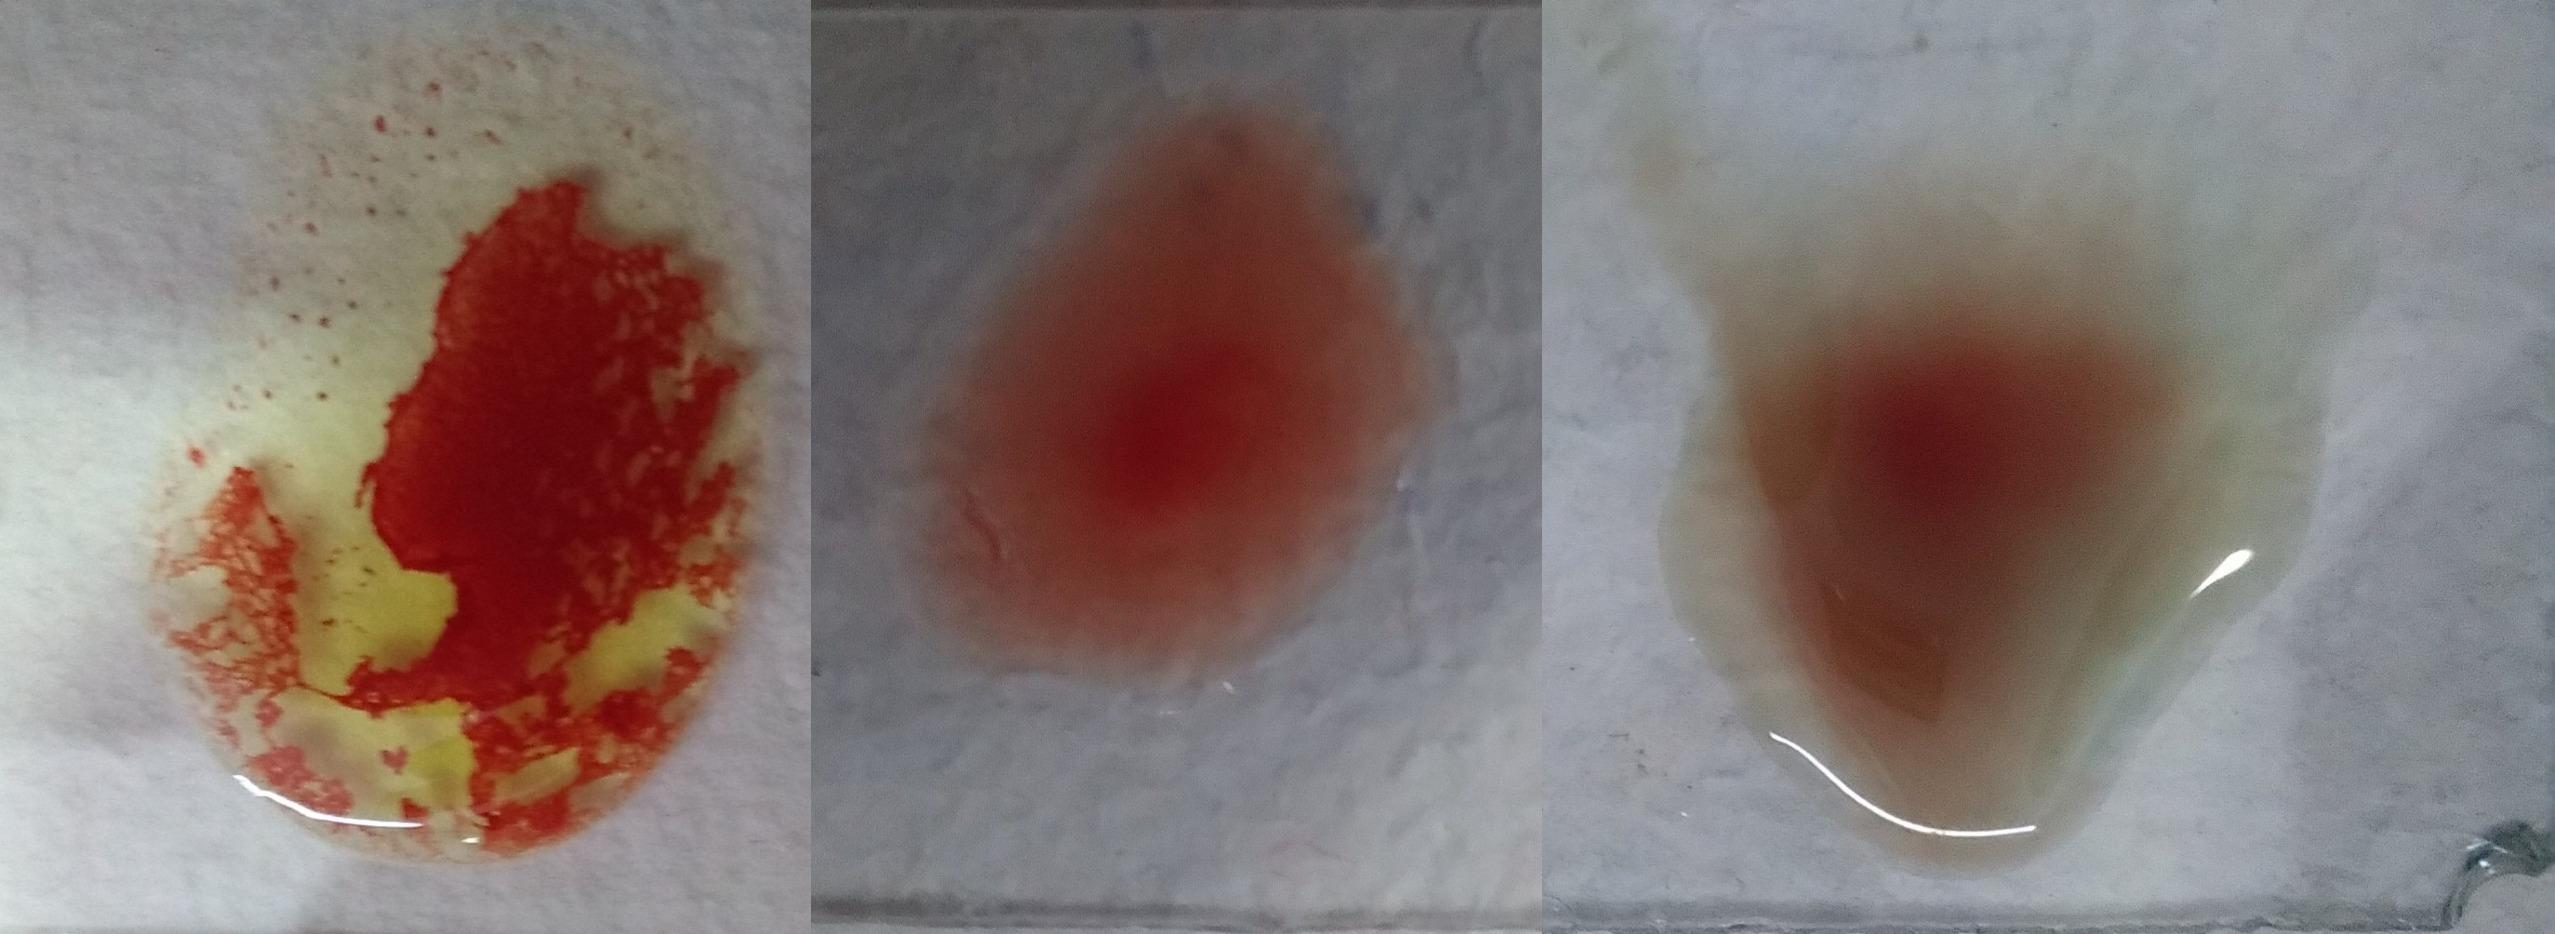B: (148, 41, 795, 888)
